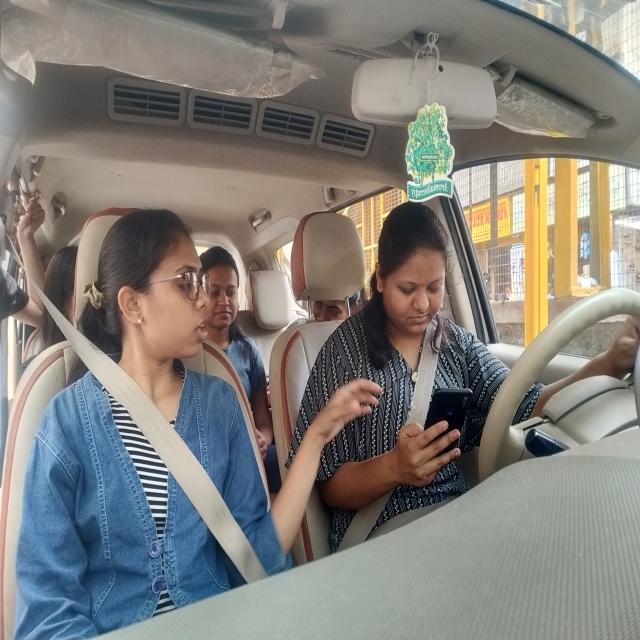mobile: (424, 375, 474, 479)
person: (86, 194, 211, 392), (373, 187, 451, 345), (196, 235, 253, 342)
